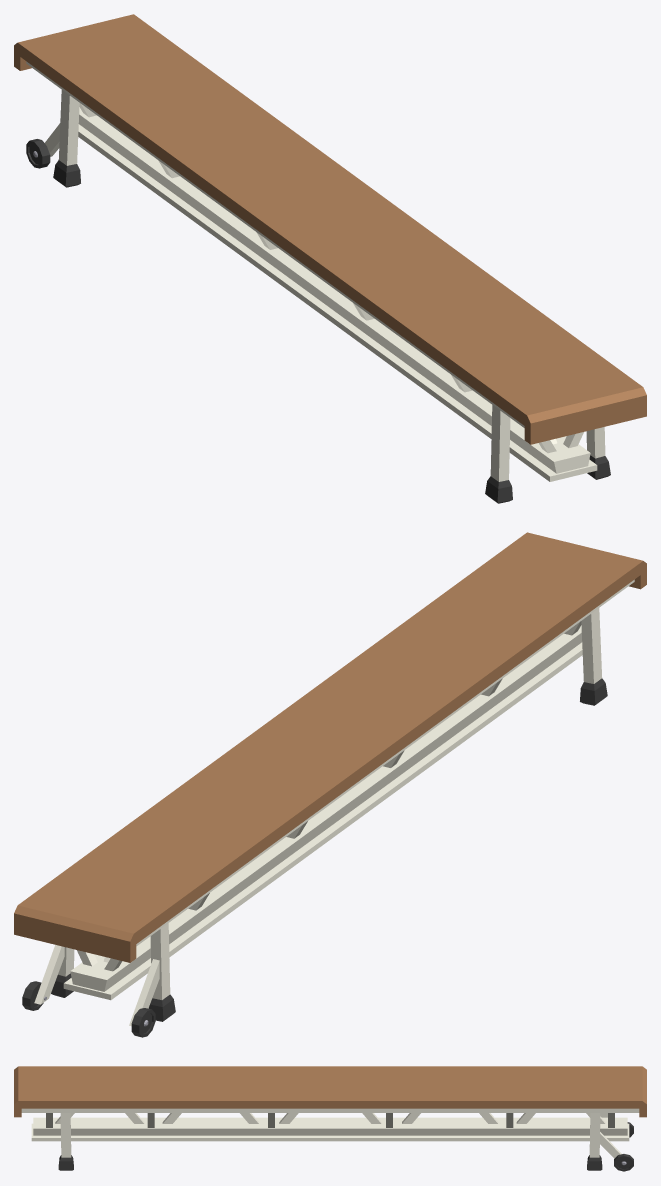
The model's file is Bankje_LOD0.fbx.
3 renders of one model, top to bottom at view 1: azimuth 30°, elevation 25°; view 2: azimuth 150°, elevation 25°; view 3: azimuth 270°, elevation 25°, orthographic. The views are drawn at different scales.
Visible parts, largest first — view 1: Bankje_LOD0; view 2: Bankje_LOD0; view 3: Bankje_LOD0.
Boxes of the visible parts, <box> form: Bankje_LOD0: <box>14,14,646,503</box>; Bankje_LOD0: <box>14,532,646,1037</box>; Bankje_LOD0: <box>14,1066,646,1171</box>.
Bounding box in the file's own units: 0.4949 × 0.4577 × 3.74.
